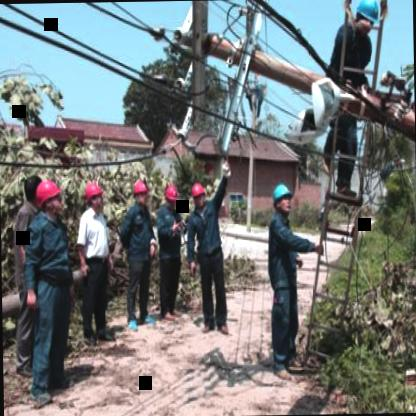helmet: (32, 178, 64, 216), (352, 0, 379, 36), (272, 180, 294, 220), (84, 174, 104, 214), (190, 178, 208, 210), (163, 180, 179, 212), (132, 177, 148, 209)
